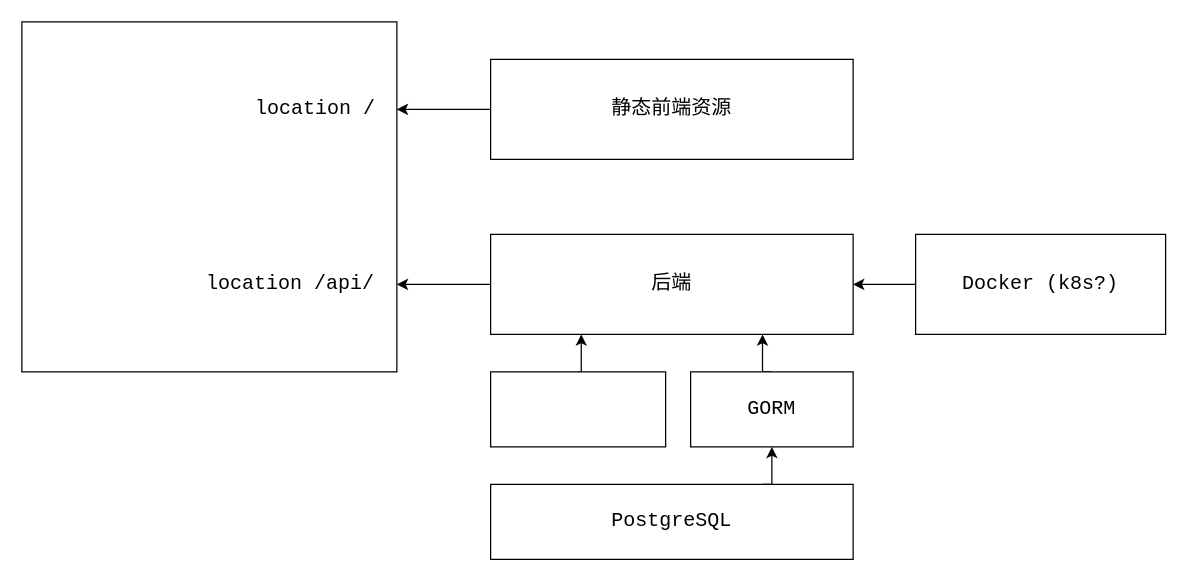
Image size: 1188x581. Some labels were removed from this diagram. Each missing label, with the box of its shape:
nginx: (21, 21, 397, 372)
Redis: (489, 371, 666, 447)
